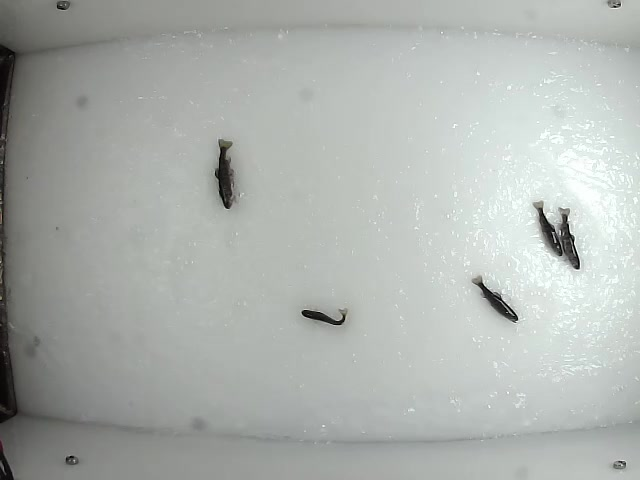fish: (469, 274, 520, 324), (531, 196, 562, 260), (214, 136, 238, 211), (556, 205, 582, 270), (300, 303, 349, 327)
